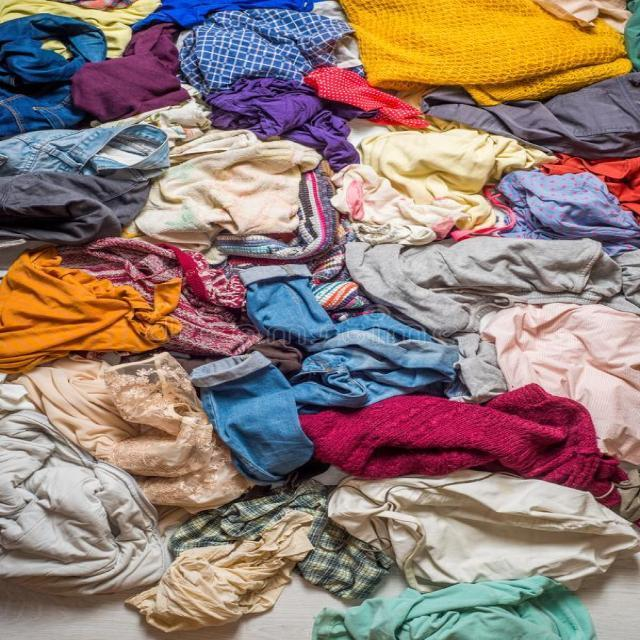clothes: (4, 150, 158, 578), (343, 0, 640, 102), (130, 121, 360, 252), (373, 464, 577, 610), (356, 240, 583, 330), (168, 0, 318, 124), (2, 11, 144, 136), (194, 330, 309, 477)
